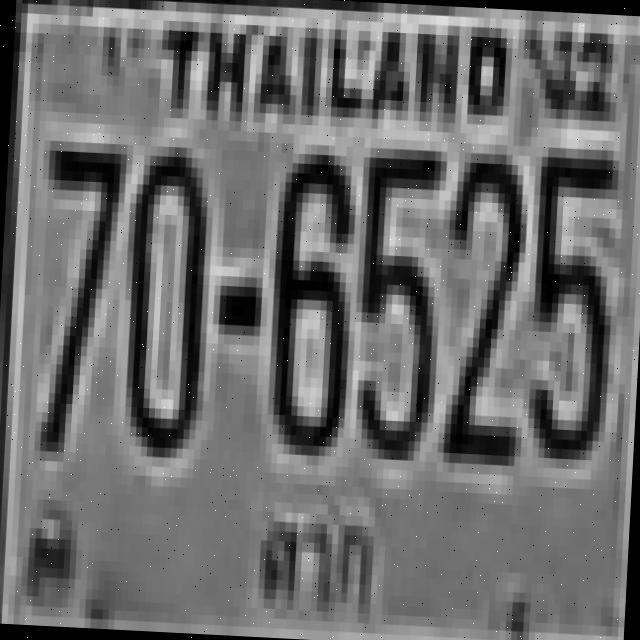0: (117, 136, 210, 450)
2: (438, 148, 524, 462)
5: (521, 137, 614, 451), (349, 138, 442, 452)
6: (266, 144, 353, 448)
7: (28, 136, 122, 450), (34, 136, 122, 342)
Tak: (238, 498, 392, 636)
